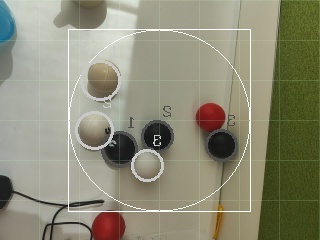Pelota blanca: (54, 0, 109, 30), (75, 109, 115, 150), (85, 59, 123, 102), (130, 149, 165, 183), (41, 221, 93, 240), (0, 35, 15, 84)
Pelota negra: (141, 119, 175, 153), (206, 129, 237, 162), (0, 0, 17, 45), (0, 173, 15, 210)
Pelota roja: (91, 211, 127, 240), (196, 101, 227, 132)
